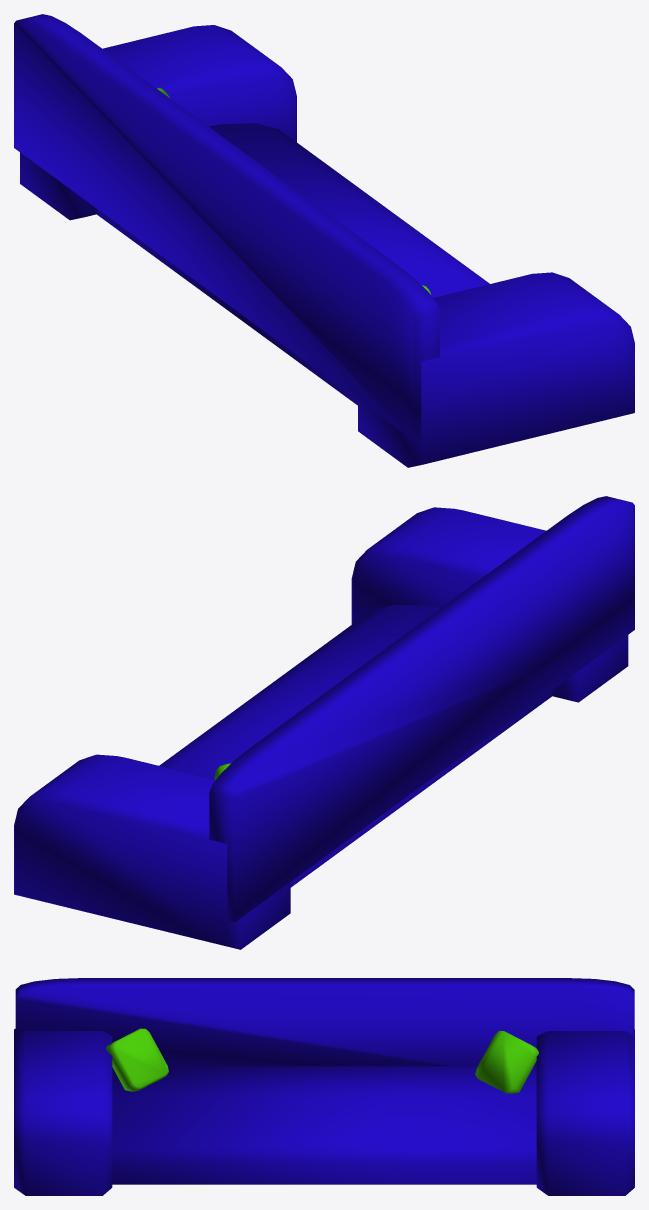
File: sofa.fbx
The picture shows the model from 3 angles, top to bottom: view 1: azimuth 30°, elevation 25°; view 2: azimuth 150°, elevation 25°; view 3: azimuth 270°, elevation 25°; orthographic projection. The views are drawn at different scales.
Parts seen in each view (by area): view 1: Cube.002; view 2: Cube.002; view 3: Cube.002.
Boxes of the visible parts, left/top/right/bottom form: Cube.002: left=14, top=14, right=634, bottom=467; Cube.002: left=14, top=496, right=634, bottom=949; Cube.002: left=14, top=978, right=634, bottom=1195.
Bounding box in the file's own units: 344 × 246 × 1049.
